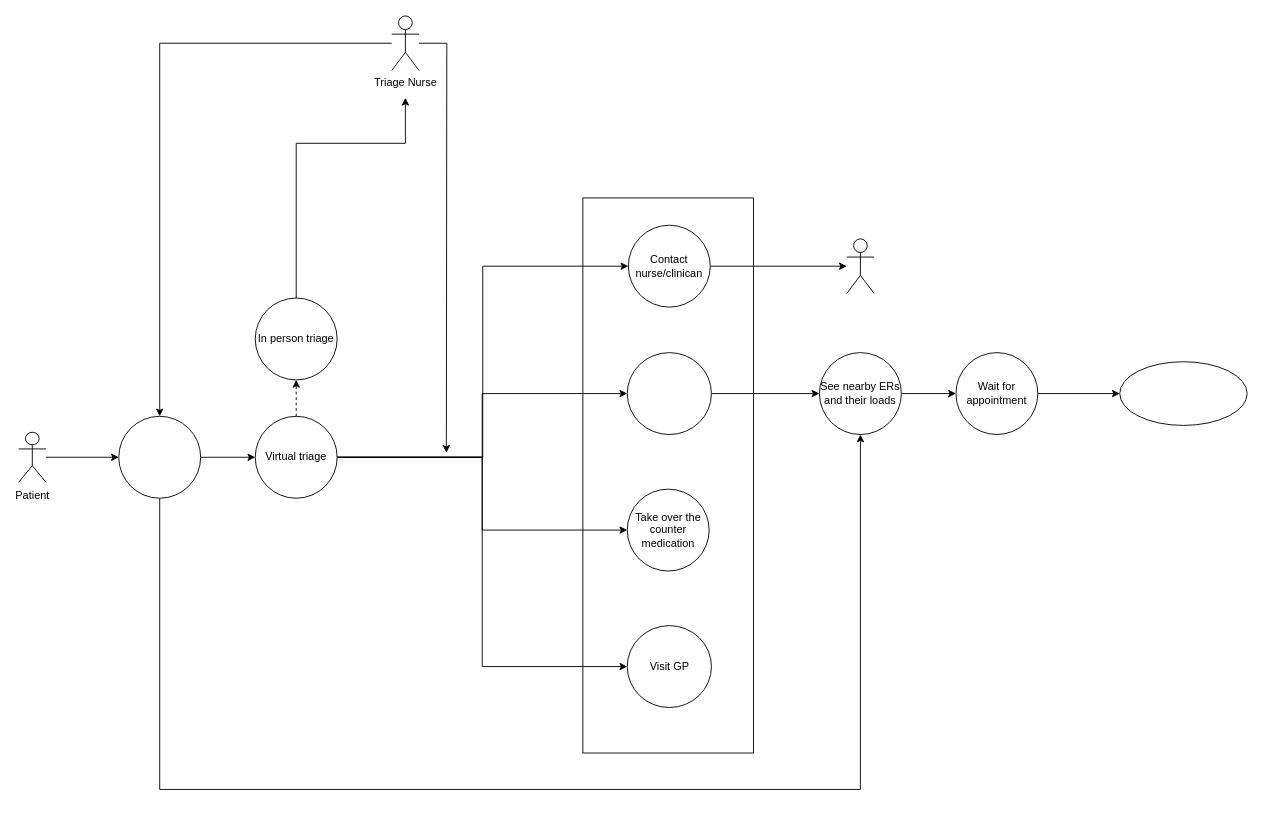
The diagram is 1263 pixels wide and 813 high, and some of its shapes have lost their labels. The shapes that lost their labels are listed below. From the top down, each one's centre as x and y in pixels, then its label:
the point at 860,265: Virtual Nurse/Clinician
the point at 668,393: ER
the point at 1183,393: Visit ER
the point at 159,456: Register/Log in
